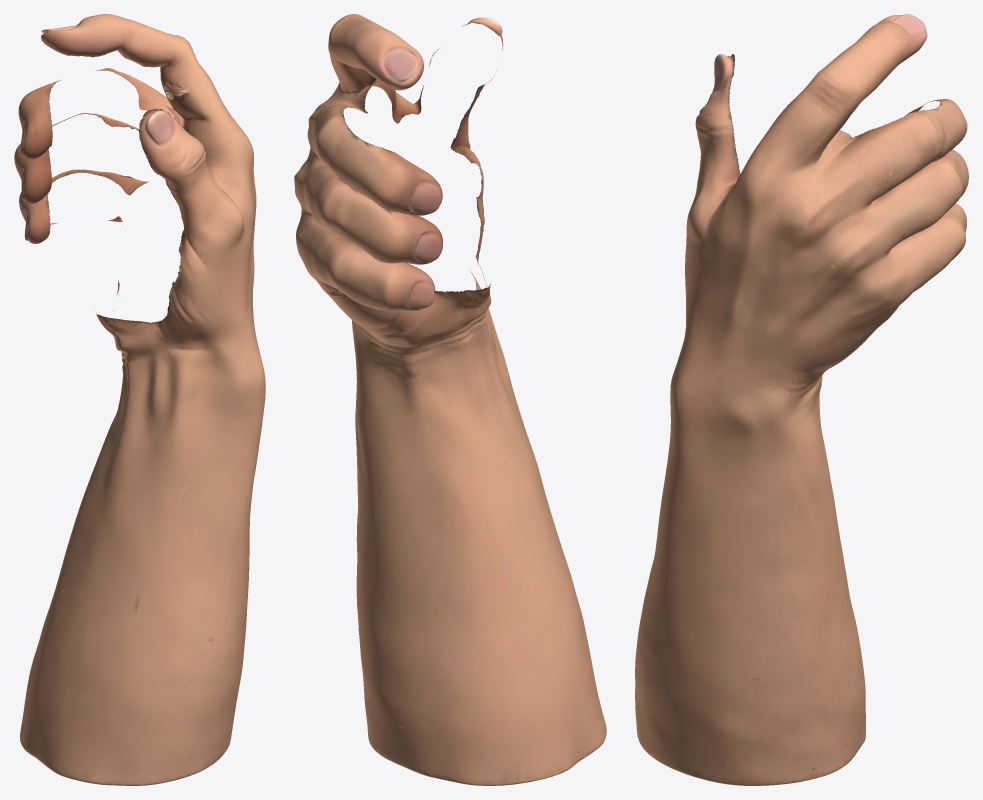
The model's file is hand-grip.glb.
3 renders of one model, left to right at view 1: azimuth 30°, elevation 25°; view 2: azimuth 150°, elevation 25°; view 3: azimuth 270°, elevation 25°, orthographic. The views are drawn at different scales.
Parts seen in each view (by area): view 1: HandGrip; view 2: HandGrip; view 3: HandGrip.
Boxes of the visible parts, box(x1,y1,x2,y2) form: HandGrip: box(14, 14, 265, 785); HandGrip: box(294, 14, 606, 785); HandGrip: box(635, 14, 968, 785).
Size of the model in its own units: 0.0983 by 0.2815 by 0.1165.
2 materials, 1 textured.
